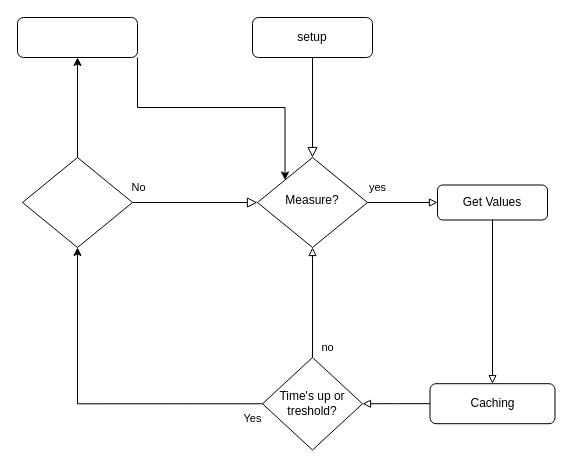
Image size: 573x468. Some labels were removed from this diagram. The shapes that lost their labels are listed below. From the top down, each one's centre as x and y in pixels, then its label:
point 77,37: Send data
point 77,202: BT connection available?
